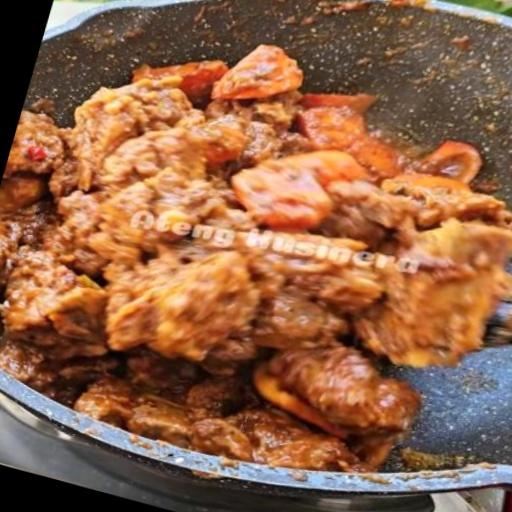pork caldereta: (0, 49, 508, 466)
